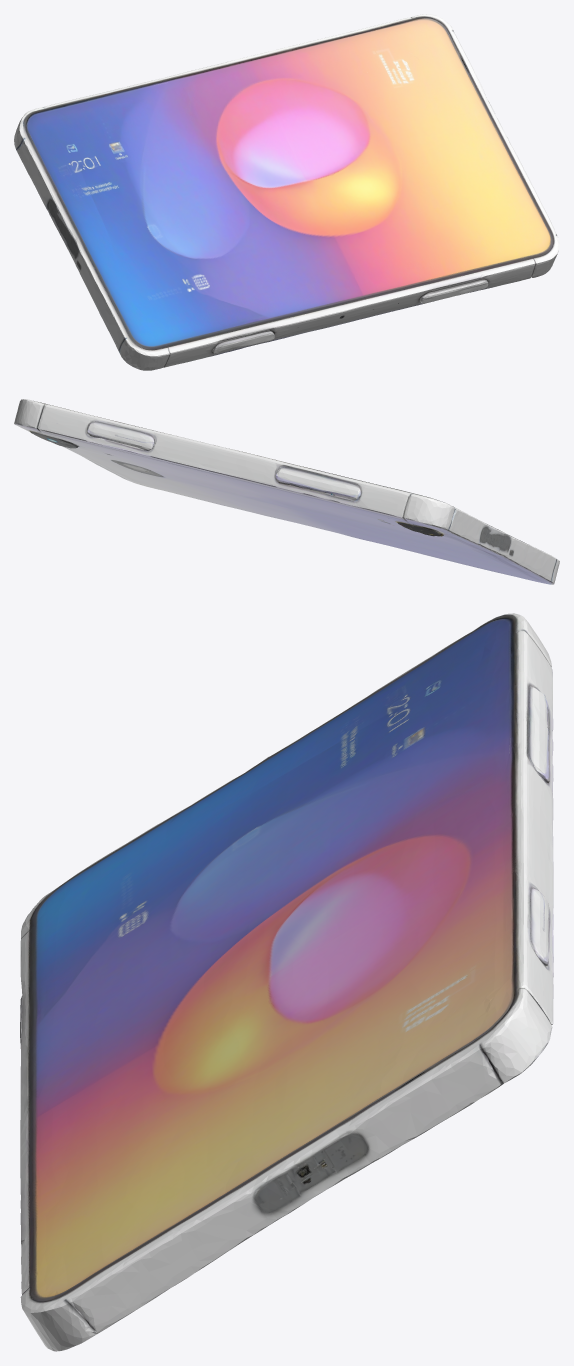
Rendered from HandPhone.fbx.
3 views of the same model, one above another, from view 1: azimuth 30°, elevation 25°; view 2: azimuth 150°, elevation 25°; view 3: azimuth 270°, elevation 25° (orthographic). The views are drawn at different scales.
Parts seen in each view (by area): view 1: temp; view 2: temp; view 3: temp.
Boxes of the visible parts, x1,y1,x2,y2 form: temp: (14, 14, 559, 370); temp: (14, 399, 559, 584); temp: (20, 613, 553, 1351).
Size of the model in its own units: 200 by 76.8 by 107.
1 material, 1 textured.
